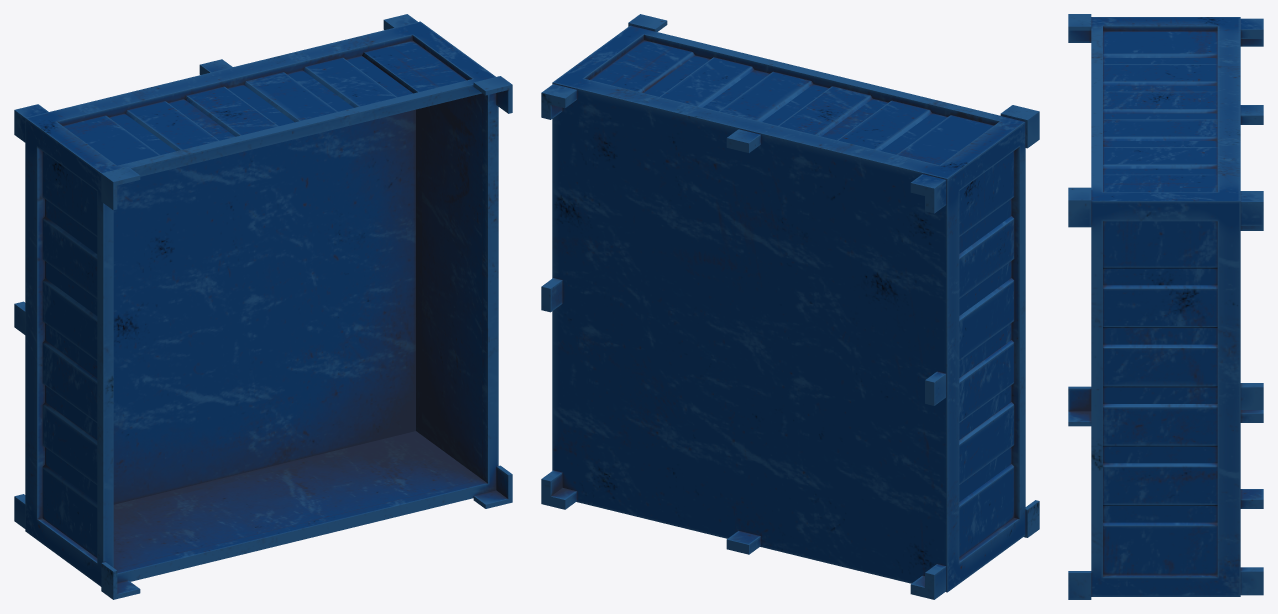
3 views of the same model, side by side, from view 1: azimuth 30°, elevation 25°; view 2: azimuth 150°, elevation 25°; view 3: azimuth 270°, elevation 25° (orthographic). The views are drawn at different scales.
Visible parts, largest first — view 1: 物品存放托盘_平面.001; view 2: 物品存放托盘_平面.001; view 3: 物品存放托盘_平面.001.
Boxes of the visible parts, left/top/right/bottom form: 物品存放托盘_平面.001: left=14, top=14, right=512, bottom=599; 物品存放托盘_平面.001: left=541, top=14, right=1039, bottom=599; 物品存放托盘_平面.001: left=1068, top=14, right=1263, bottom=599.
Size of the model in its own units: 0.384 by 0.384 by 0.17.
Materials: 1 (1 with a texture image).
